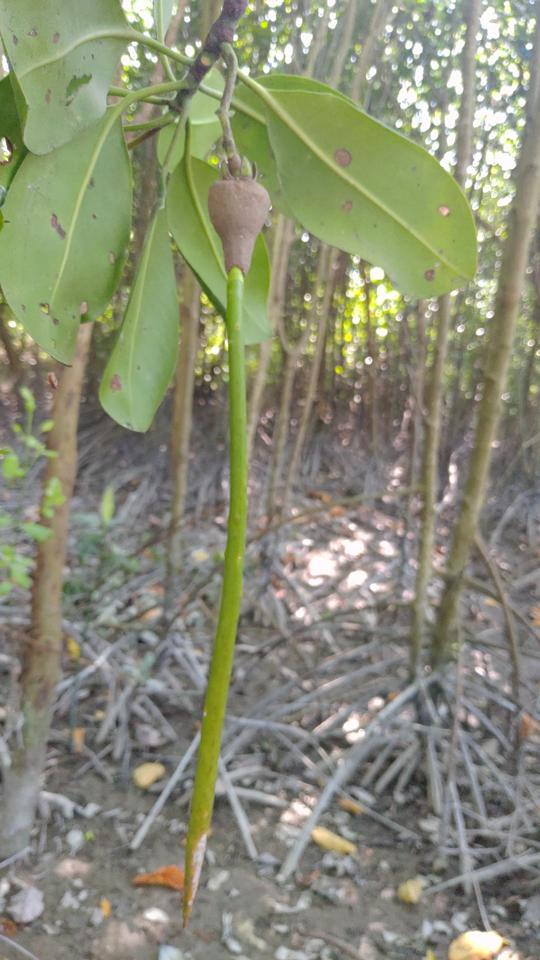setengah matang: (167, 149, 285, 934)
